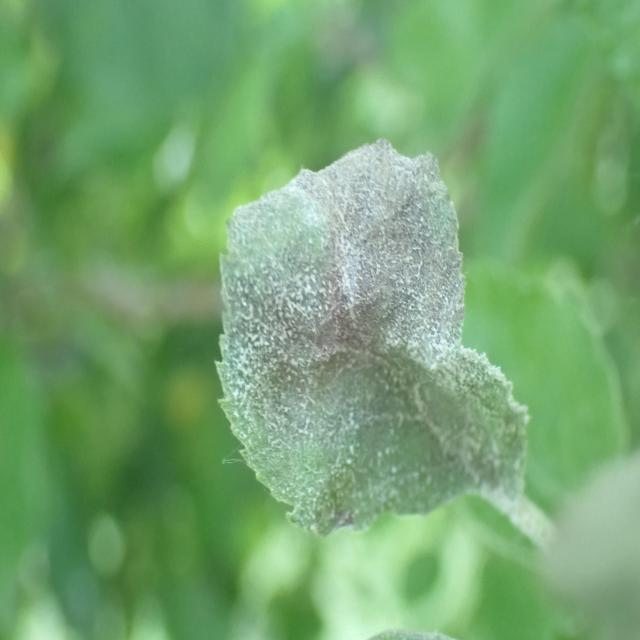Powdery_mildew: (194, 140, 542, 566)
